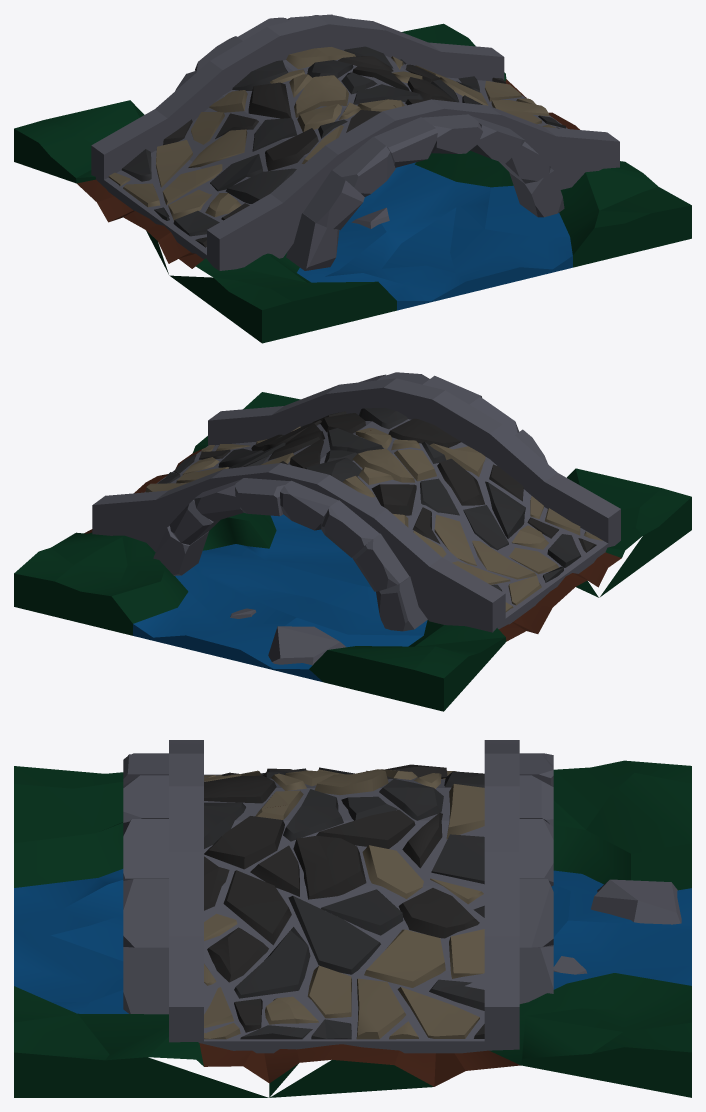
The model's file is Bridge_H.001.fbx.
3 views of the same model, one above another, from view 1: azimuth 30°, elevation 25°; view 2: azimuth 150°, elevation 25°; view 3: azimuth 270°, elevation 25° (orthographic). The views are drawn at different scales.
Parts seen in each view (by area): view 1: Bridge_H.001; view 2: Bridge_H.001; view 3: Bridge_H.001.
Boxes of the visible parts, bbox=[...] form: Bridge_H.001: bbox=[14, 14, 691, 343]; Bridge_H.001: bbox=[14, 372, 691, 711]; Bridge_H.001: bbox=[14, 740, 691, 1097].
Size of the model in its own units: 147 by 44.02 by 147.
